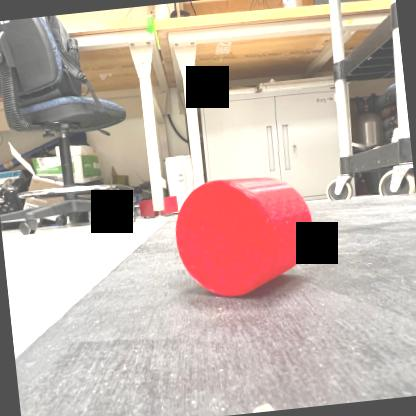red cylinder: (168, 166, 322, 305)
